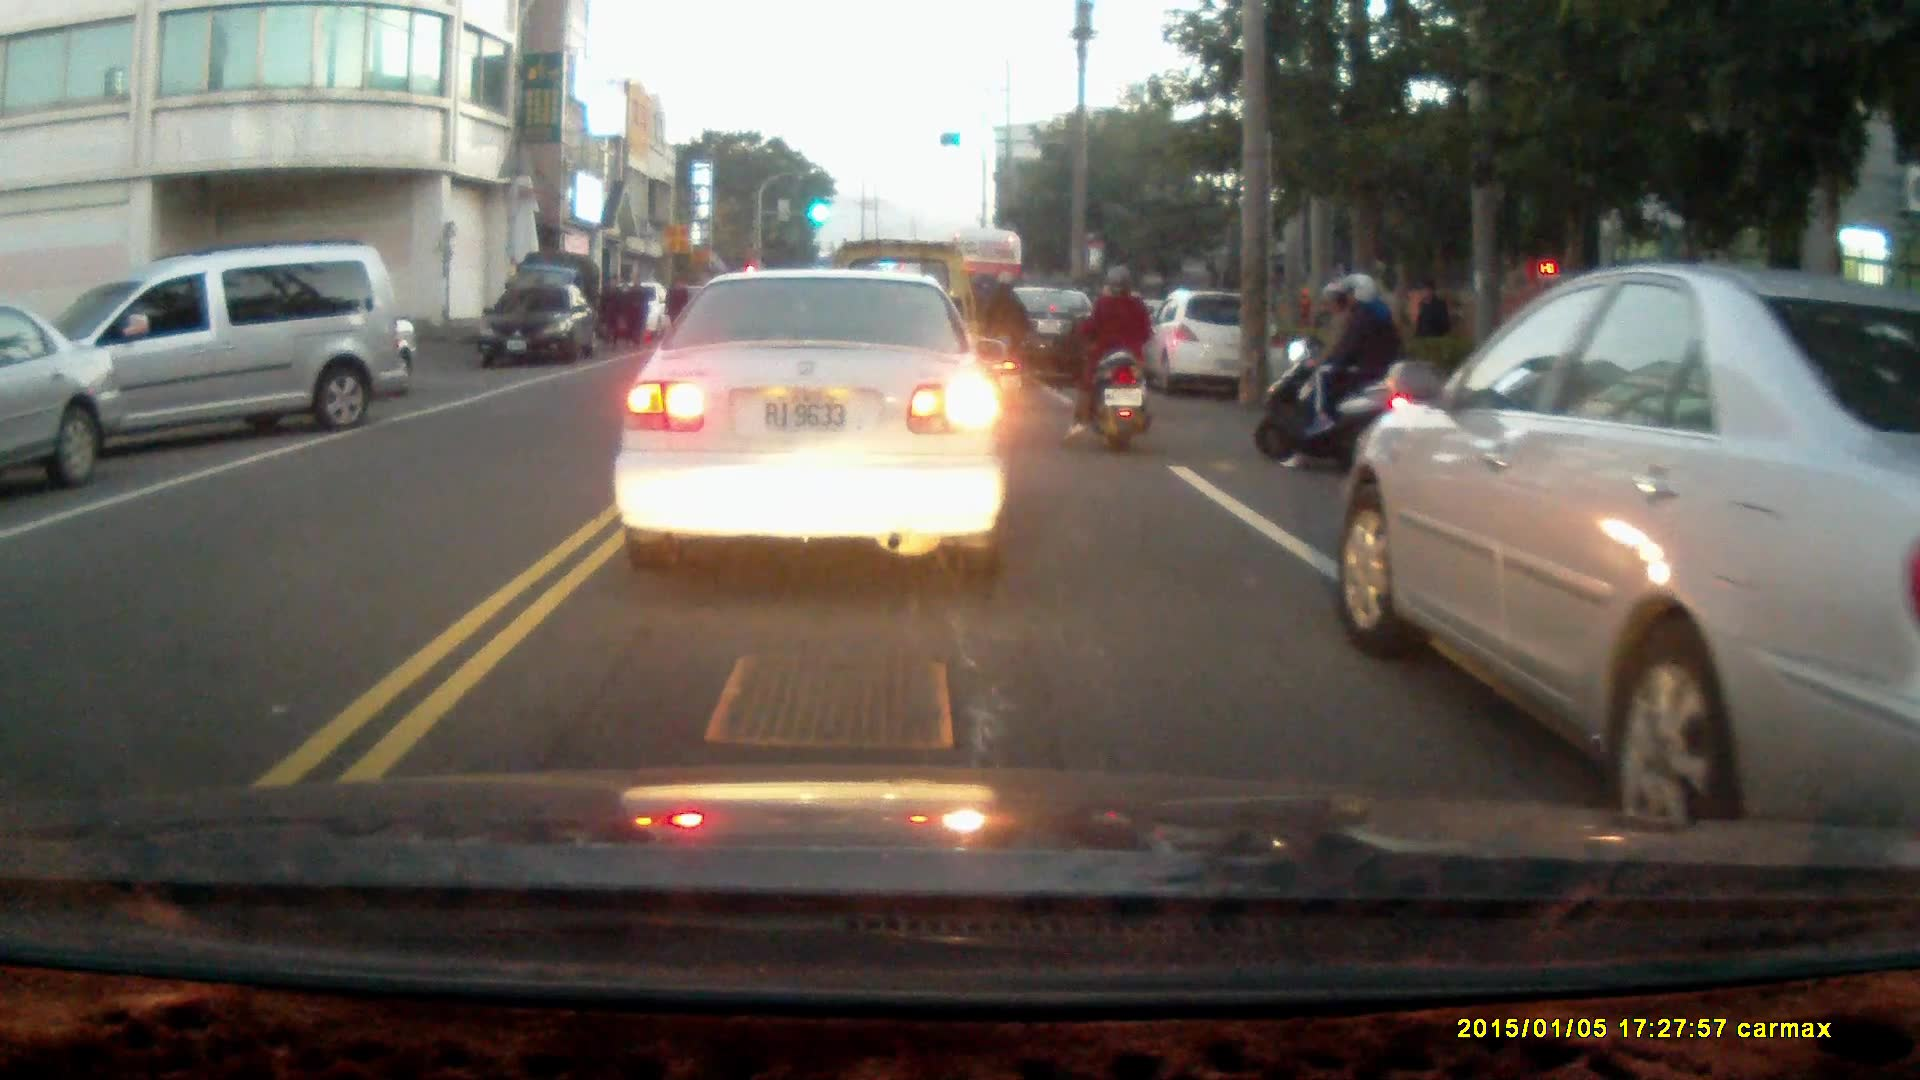pedestrian: (1411, 275, 1447, 365), (597, 272, 627, 352), (619, 272, 646, 351), (663, 274, 691, 343)
rider: (1253, 267, 1408, 470), (1058, 262, 1154, 450), (965, 270, 1029, 395)
vehicle: (1339, 257, 1920, 833), (622, 269, 1012, 586), (25, 247, 400, 462), (1, 303, 123, 491), (1141, 293, 1282, 399), (974, 286, 1113, 389), (484, 280, 604, 367)
